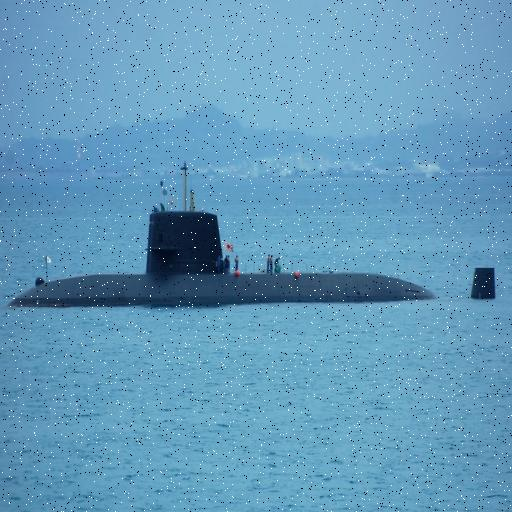submarine: (13, 198, 512, 312)
